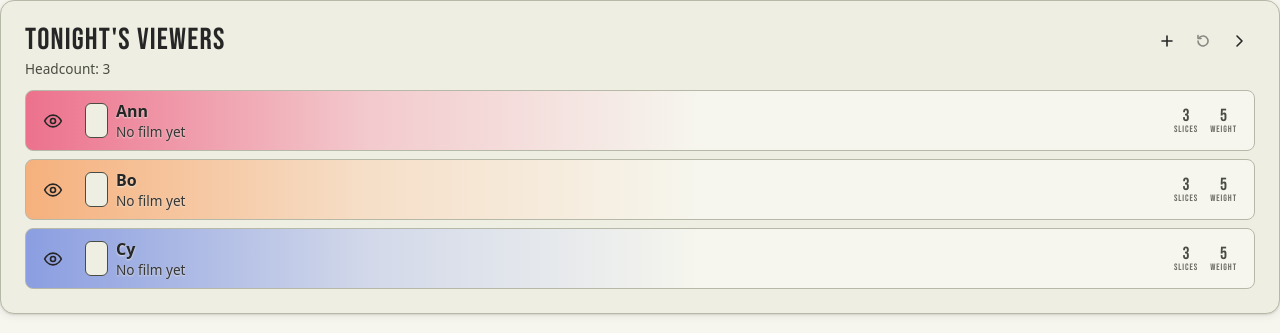
Test: the eye toggle marks a viewer away or here without opening or closing their cell
Step 1. Click the button named "Ann is here" → (53, 121), box [38,106,68,136]
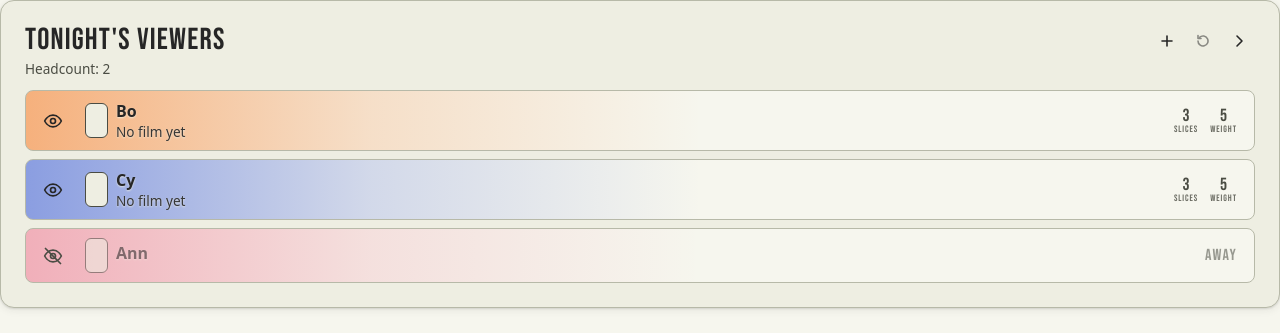
Check: the button named "Ann is away" is not pressed
Check: the button "Ann Away" does not have attribute aria-expanded="true", box [76,233,1246,278]
Step 2. Click the button named "Ann is away" → (53, 256), box [38,241,68,271]
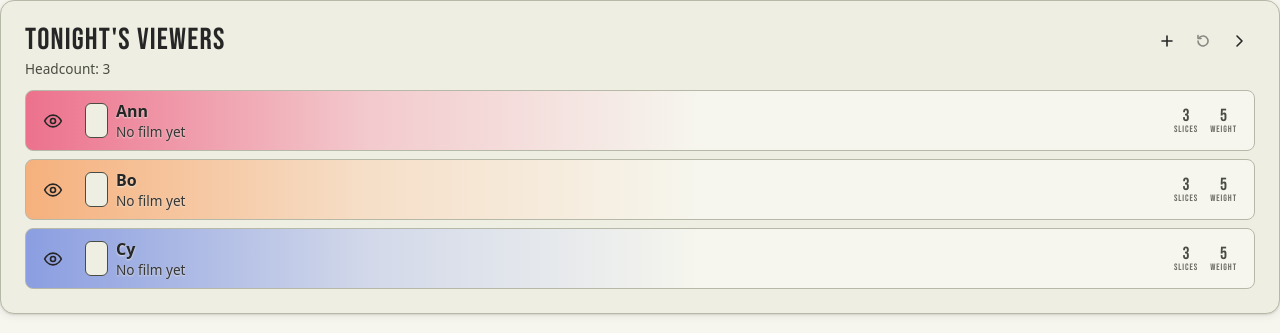
Check: the button "Ann No film yet 3 slices weight 5" is collapsed, box [76,95,1246,146]
